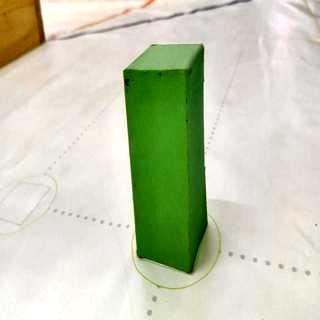greenbox: (122, 40, 210, 278)
